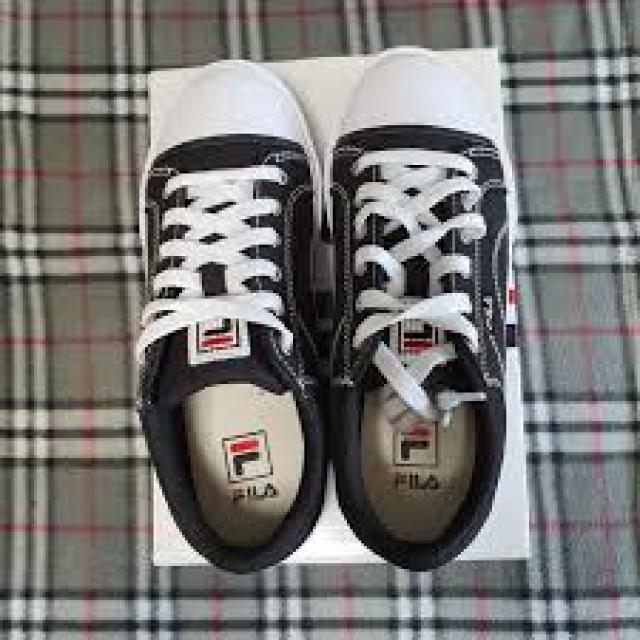shoe: (137, 65, 327, 577), (327, 48, 509, 575)
